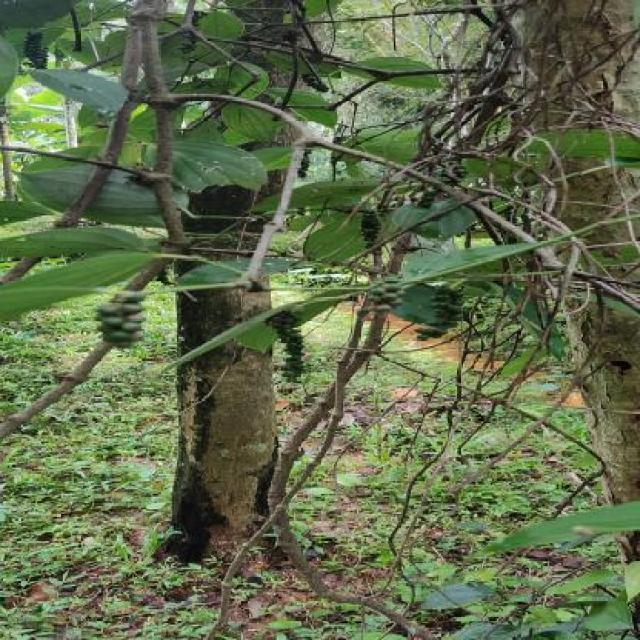UNRIPE: (265, 311, 309, 383), (412, 283, 463, 340), (94, 289, 146, 343), (415, 165, 471, 211), (360, 211, 383, 251)
